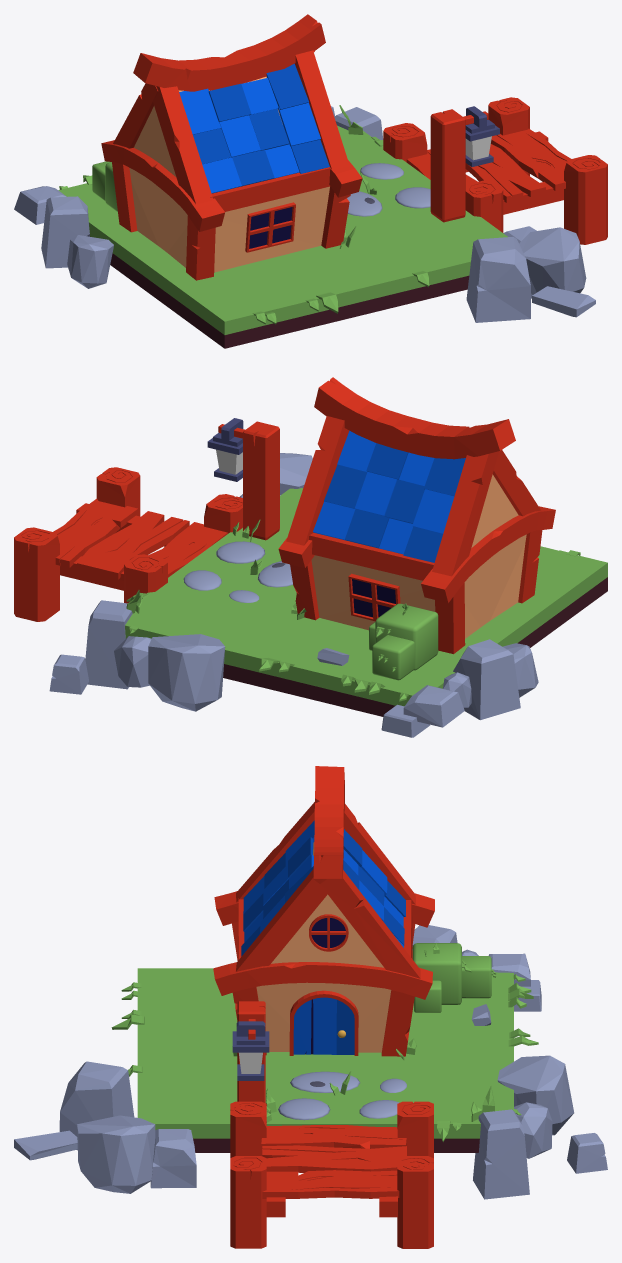
Rendered from house_scene.dae.
3 views of the same model, one above another, from view 1: azimuth 30°, elevation 25°; view 2: azimuth 150°, elevation 25°; view 3: azimuth 270°, elevation 25° (orthographic). The views are drawn at different scales.
Visible parts, largest first — view 1: SUELO, PAREDES, Cubo.004, Cubo.103, Cubo.046, Cubo.045, Cubo.102, Cubo.007, Cubo.026, Cubo.056, Cubo.038, Cubo.008 (+34 smaller); view 2: SUELO, PAREDES, Cubo.004, Cubo.055, Cubo.046, Cubo, Cubo.006, Cubo.056, Cubo.041, Cubo.005, Cubo.026, Cubo.052 (+38 smaller); view 3: SUELO, PAREDES, Cubo.102, Cubo.001, Cubo.052, puerta, Cubo.103, Cubo.038, Cubo.055, Cubo.041, Cubo.005, Cubo.004 (+24 smaller).
Part boxes in pixels (box(x1,y1,x2,y2)): SUELO: box(58, 125, 507, 348); PAREDES: box(129, 76, 329, 272); Cubo.004: box(133, 14, 325, 91); Cubo.103: box(466, 237, 530, 322); Cubo.046: box(430, 109, 465, 222); Cubo.045: box(564, 155, 607, 244); Cubo.102: box(519, 227, 586, 298); Cubo.007: box(153, 86, 213, 204); Cubo.026: box(101, 140, 224, 231); Cubo.056: box(41, 196, 89, 268); Cubo.038: box(491, 128, 570, 190); Cubo.008: box(294, 50, 349, 169); SUELO: box(125, 488, 607, 716); PAREDES: box(311, 474, 526, 638); Cubo.004: box(314, 377, 515, 459); Cubo.055: box(148, 634, 225, 711); Cubo.046: box(243, 421, 279, 540); Cubo: box(14, 527, 59, 621); Cubo.006: box(432, 451, 498, 576); Cubo.056: box(453, 639, 520, 720); Cubo.041: box(77, 511, 189, 579); Cubo.005: box(286, 416, 349, 545); Cubo.026: box(421, 506, 555, 603); Cubo.052: box(85, 600, 132, 689); SUELO: box(137, 968, 513, 1152); PAREDES: box(256, 842, 391, 1052); Cubo.102: box(77, 1115, 155, 1193); Cubo.001: box(213, 962, 432, 999); Cubo.052: box(473, 1109, 529, 1199); puerta: box(289, 990, 358, 1055); Cubo.103: box(59, 1061, 134, 1149); Cubo.038: box(262, 1170, 399, 1198); Cubo.055: box(497, 1055, 574, 1135); Cubo.041: box(262, 1145, 406, 1172); Cubo.005: box(313, 870, 420, 978); Cubo.004: box(313, 766, 344, 878).
Size of what is drawn, in the model's own units: 5.29 by 5.27 by 2.64.
